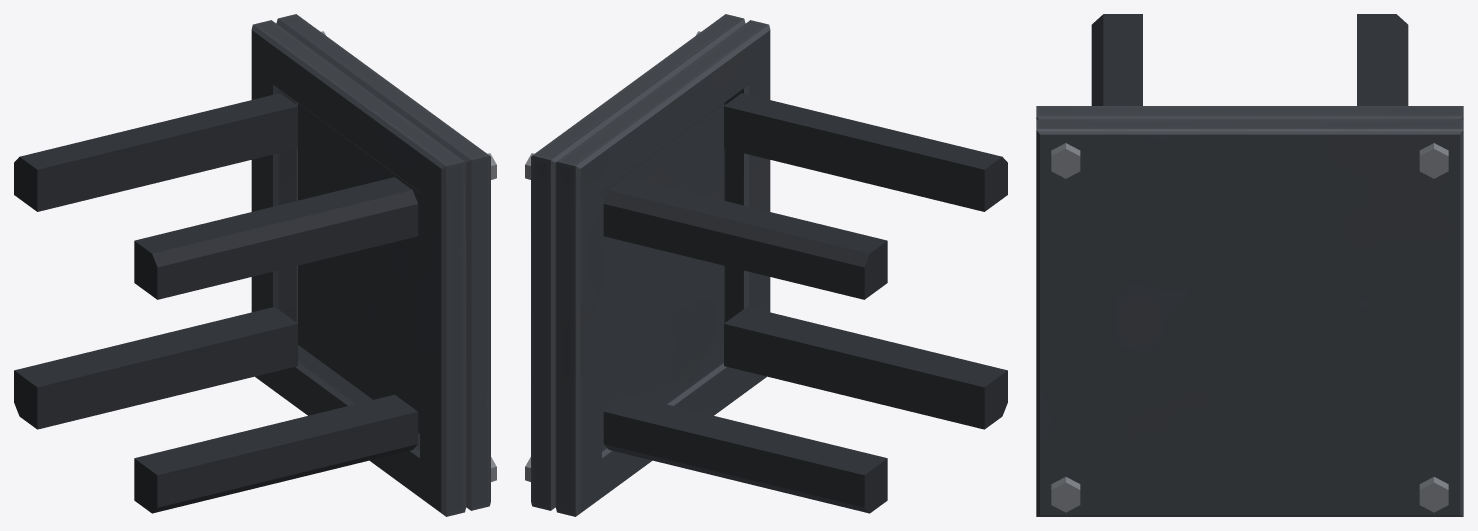
Rendered from end_pipe_west.obj.
3 views of the same model, side by side, from view 1: azimuth 30°, elevation 25°; view 2: azimuth 150°, elevation 25°; view 3: azimuth 270°, elevation 25° (orthographic). The views are drawn at different scales.
Parts seen in each view (by area): view 1: end_pipe_rails, end_pipe_flange, end_pipe_blind; view 2: end_pipe_rails, end_pipe_flange, end_pipe_blind; view 3: end_pipe_blind, end_pipe_rails, end_pipe_flange, end_pipe_flange_nuts.
Part boxes in pixels (x1,y1,x2,y2): end_pipe_rails: (14,93,418,513); end_pipe_flange: (251,20,466,516); end_pipe_blind: (276,14,490,510); end_pipe_rails: (603,93,1007,513); end_pipe_flange: (555,20,770,516); end_pipe_blind: (531,14,745,510); end_pipe_blind: (1036,119,1463,516); end_pipe_rails: (1091,14,1408,105); end_pipe_flange: (1036,106,1463,119); end_pipe_flange_nuts: (1051,143,1448,512).
Bounding box in the file's own units: 0.6469 × 0.675 × 0.675.
